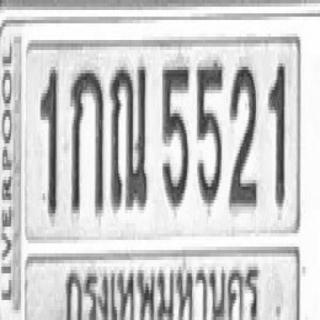A01: (70, 67, 103, 213)
A19: (109, 60, 148, 210)
N01: (39, 65, 58, 215), (268, 60, 285, 207)
N02: (228, 62, 257, 208)
N05: (196, 60, 223, 207), (161, 62, 188, 208)
P04: (59, 255, 264, 320)
